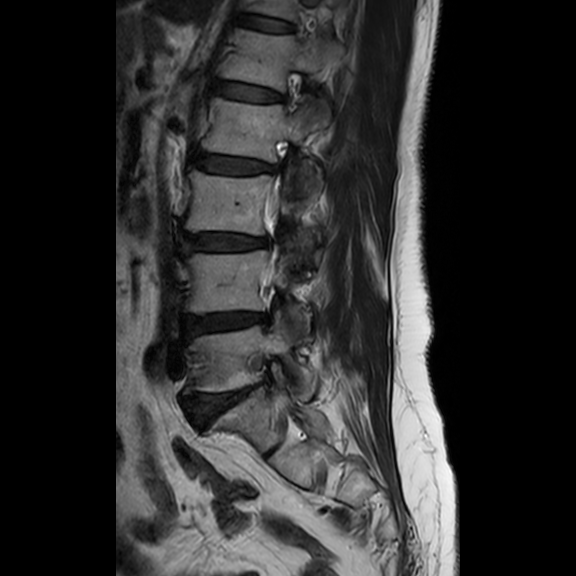RFS0: (269, 62, 309, 121)
